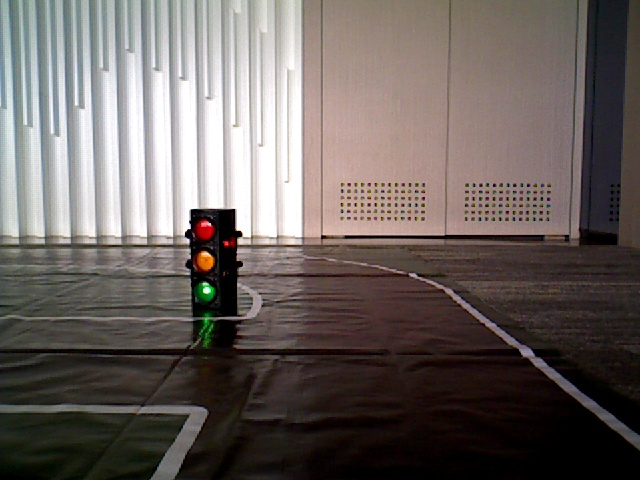green: (193, 214, 218, 305)
